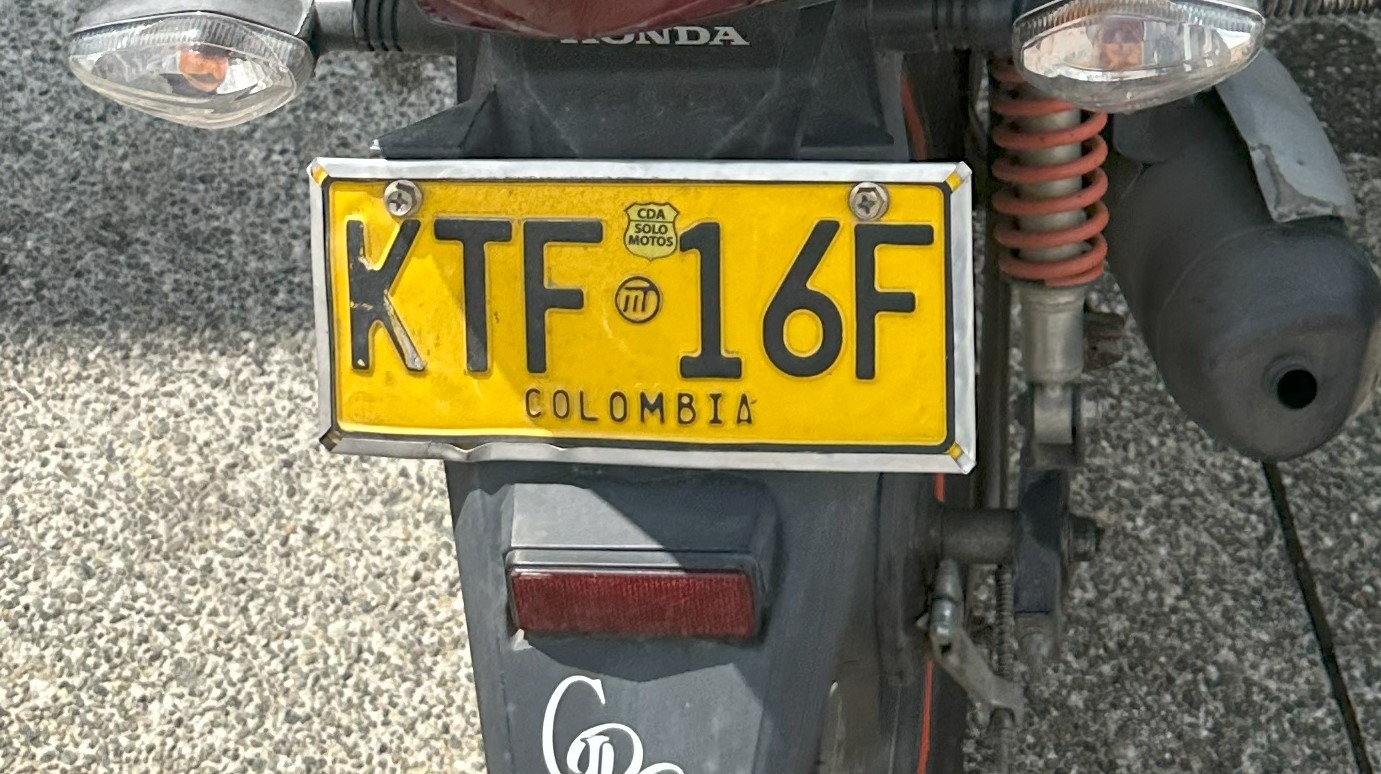number plate: (309, 159, 974, 472)
